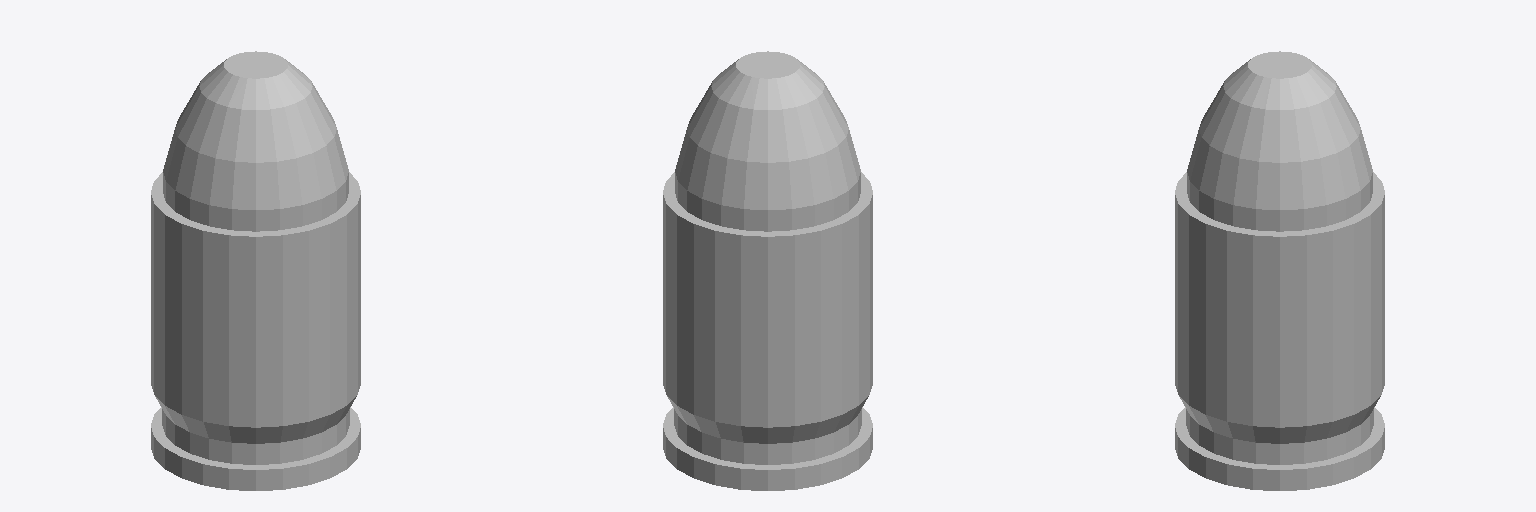
Rendered from ammo_machinegunLauncher.obj.
3 renders of one model, left to right at view 1: azimuth 30°, elevation 25°; view 2: azimuth 150°, elevation 25°; view 3: azimuth 270°, elevation 25°, orthographic.
Parts seen in each view (by area): view 1: Group; view 2: Group; view 3: Group.
Part boxes in pixels (bbox=[...]): Group: bbox=[151, 51, 360, 490]; Group: bbox=[663, 51, 872, 490]; Group: bbox=[1175, 51, 1384, 490].
Size of the model in its own units: 0.0345 by 0.0689 by 0.0345.